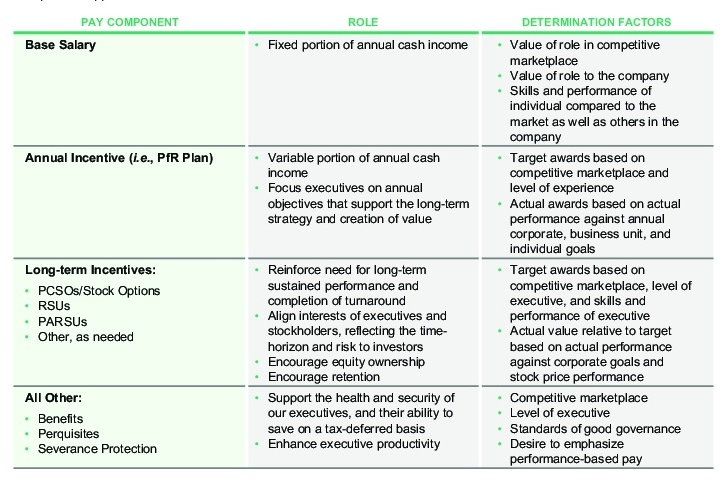table: (0, 0, 723, 480)
